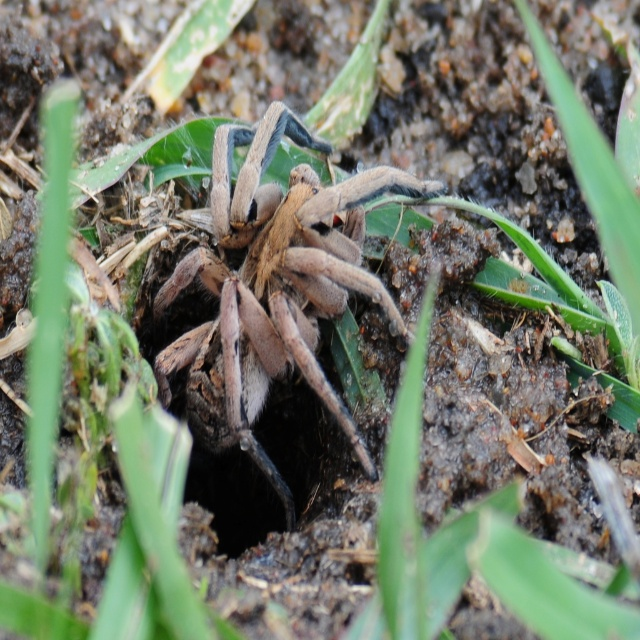Spider: (154, 70, 449, 533)
